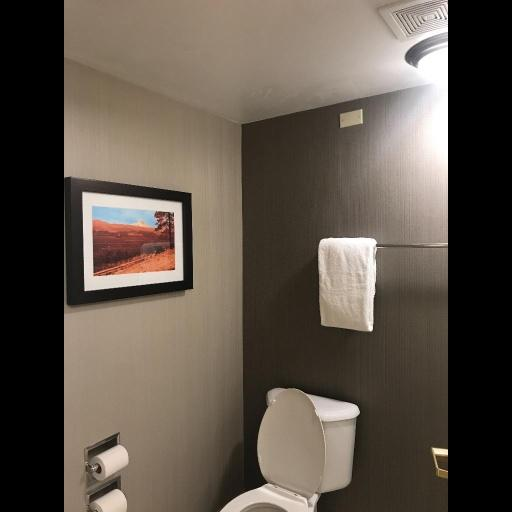clean_toilet: (213, 382, 364, 512)
folded_towel: (311, 239, 382, 340)
